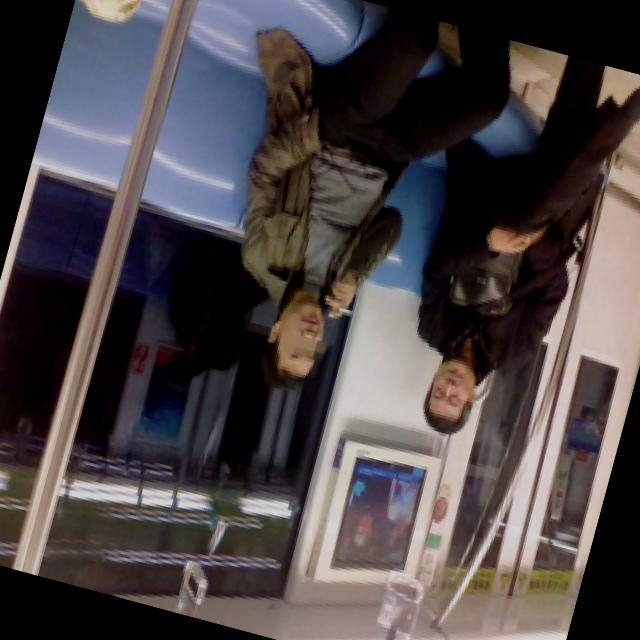smoke: (326, 299, 355, 319)
